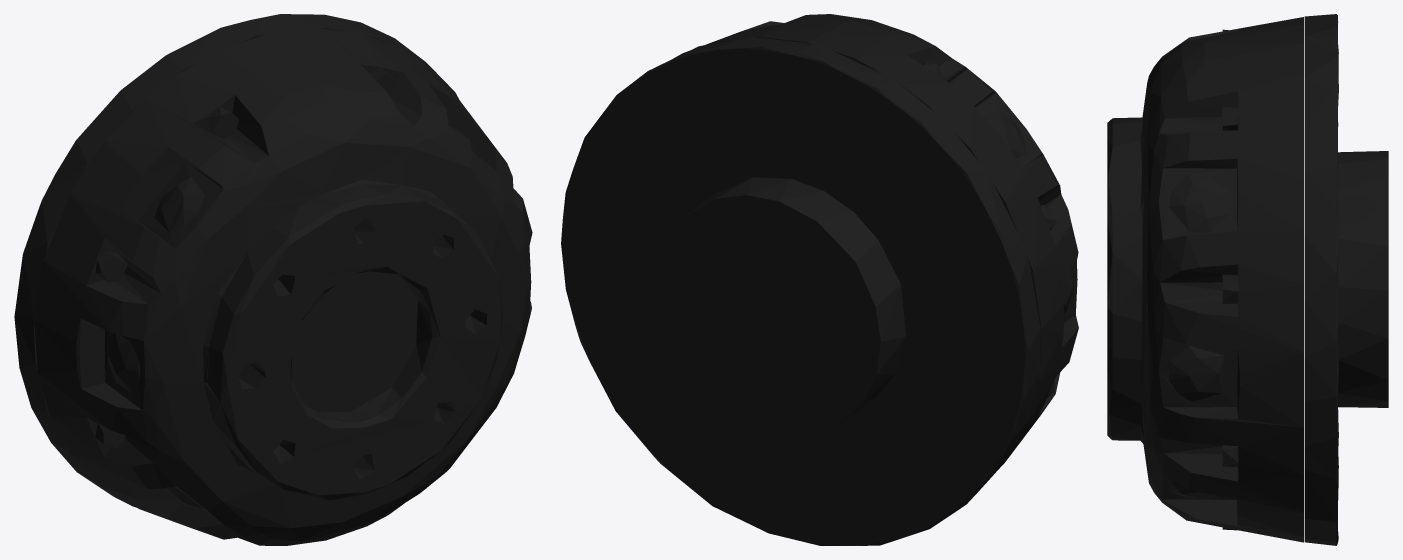
The picture shows the model from 3 angles, left to right: view 1: azimuth 30°, elevation 25°; view 2: azimuth 150°, elevation 25°; view 3: azimuth 270°, elevation 25°; orthographic projection.
Visible parts, largest first — view 1: Link_7; view 2: Link_7; view 3: Link_7.
Boxes of the visible parts, bbox=[...] form: Link_7: bbox=[14, 14, 532, 545]; Link_7: bbox=[561, 14, 1078, 545]; Link_7: bbox=[1107, 14, 1388, 545].
Bounding box in the file's own units: 0.1041 × 0.1036 × 0.0549.
Materials: 1 (1 with a texture image).
